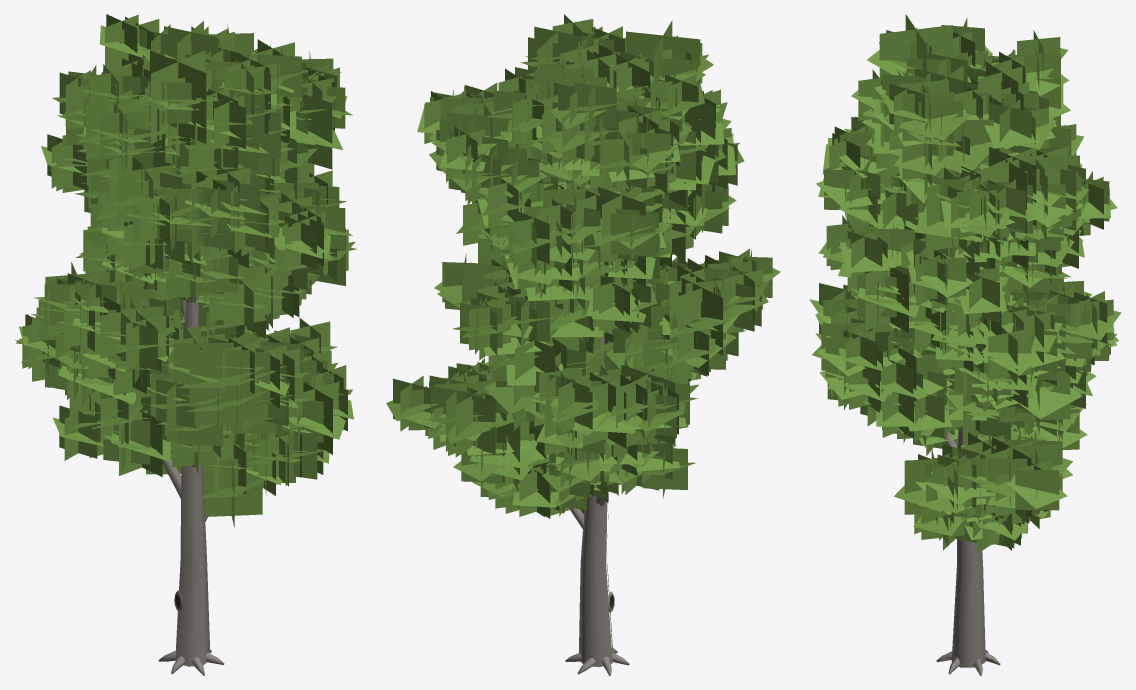
The model's file is tilleul_3_f3_jeu.glb.
3 views of the same model, side by side, from view 1: azimuth 30°, elevation 25°; view 2: azimuth 150°, elevation 25°; view 3: azimuth 270°, elevation 25° (orthographic). The views are drawn at different scales.
Visible parts, largest first — view 1: Tilleul_T3_f3_Leger; view 2: Tilleul_T3_f3_Leger; view 3: Tilleul_T3_f3_Leger.
Part boxes in pixels (bbox=[...]): Tilleul_T3_f3_Leger: bbox=[15, 14, 357, 675]; Tilleul_T3_f3_Leger: bbox=[386, 14, 780, 675]; Tilleul_T3_f3_Leger: bbox=[809, 14, 1121, 675].
Bounding box in the file's own units: 8.14 × 14.38 × 6.62.
